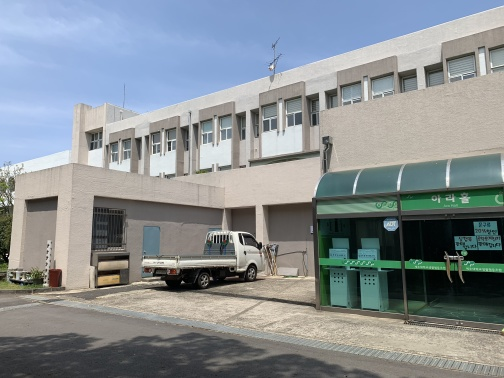Ara Hall: (304, 154, 501, 334)
